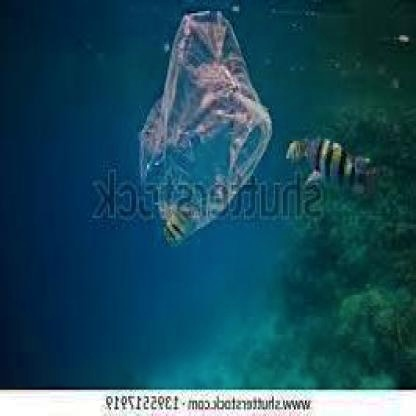pbag: (133, 4, 274, 235)
